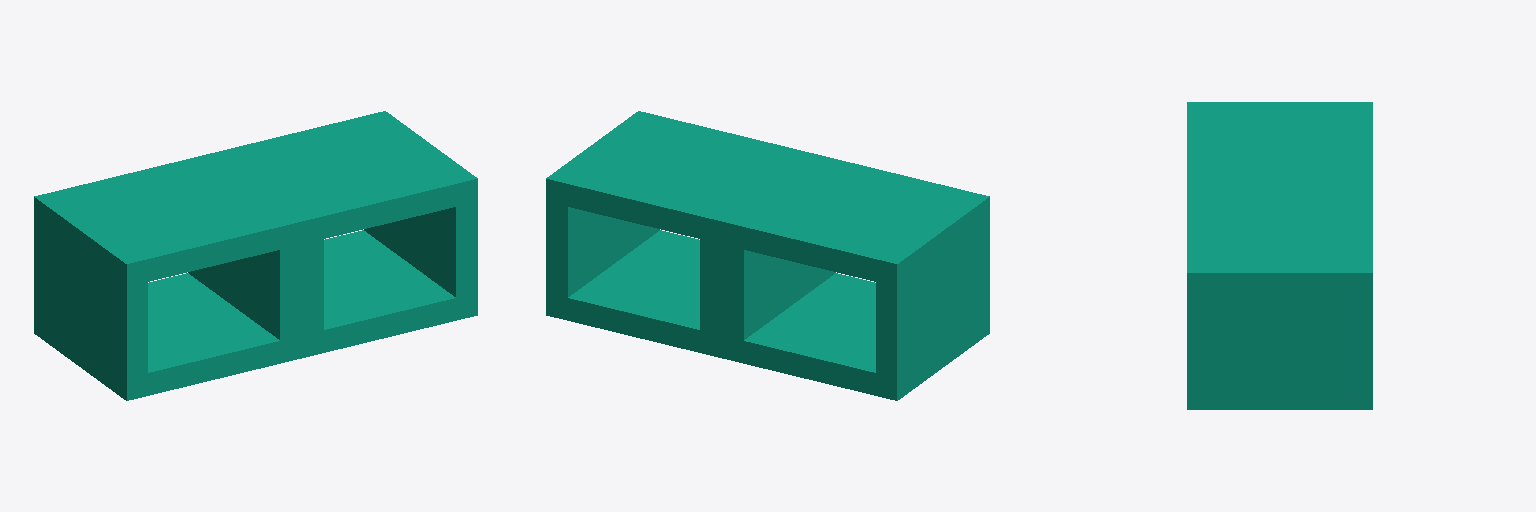
The model's file is brick.obj.
The picture shows the model from 3 angles: view 1: azimuth 30°, elevation 25°; view 2: azimuth 150°, elevation 25°; view 3: azimuth 270°, elevation 25°; orthographic projection.
Parts seen in each view (by area): view 1: Box01; view 2: Box01; view 3: Box01.
Part boxes in pixels (left/top/right/bottom): Box01: left=34, top=111, right=477, bottom=400; Box01: left=546, top=111, right=989, bottom=400; Box01: left=1187, top=102, right=1372, bottom=409.
Bounding box in the file's own units: 0.5955 × 0.2215 × 0.2717.